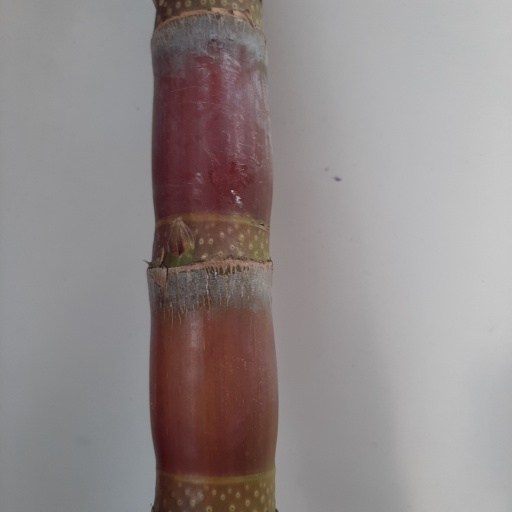Bud: (166, 218, 195, 256)
